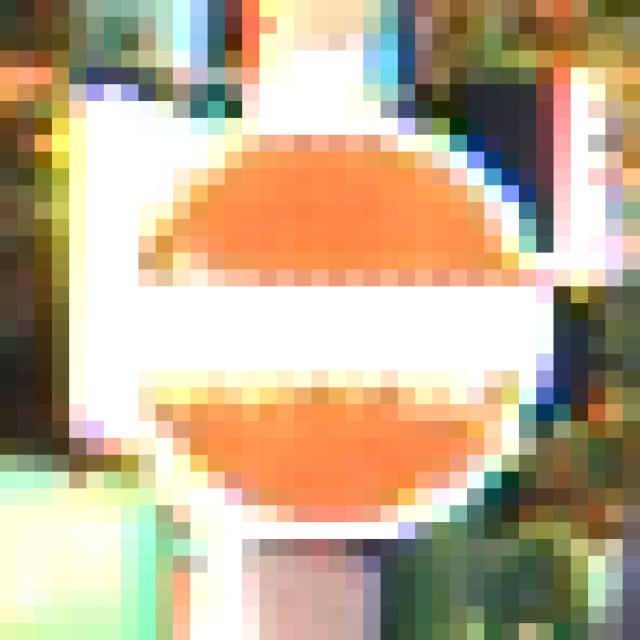No Entry: (88, 102, 555, 557)
